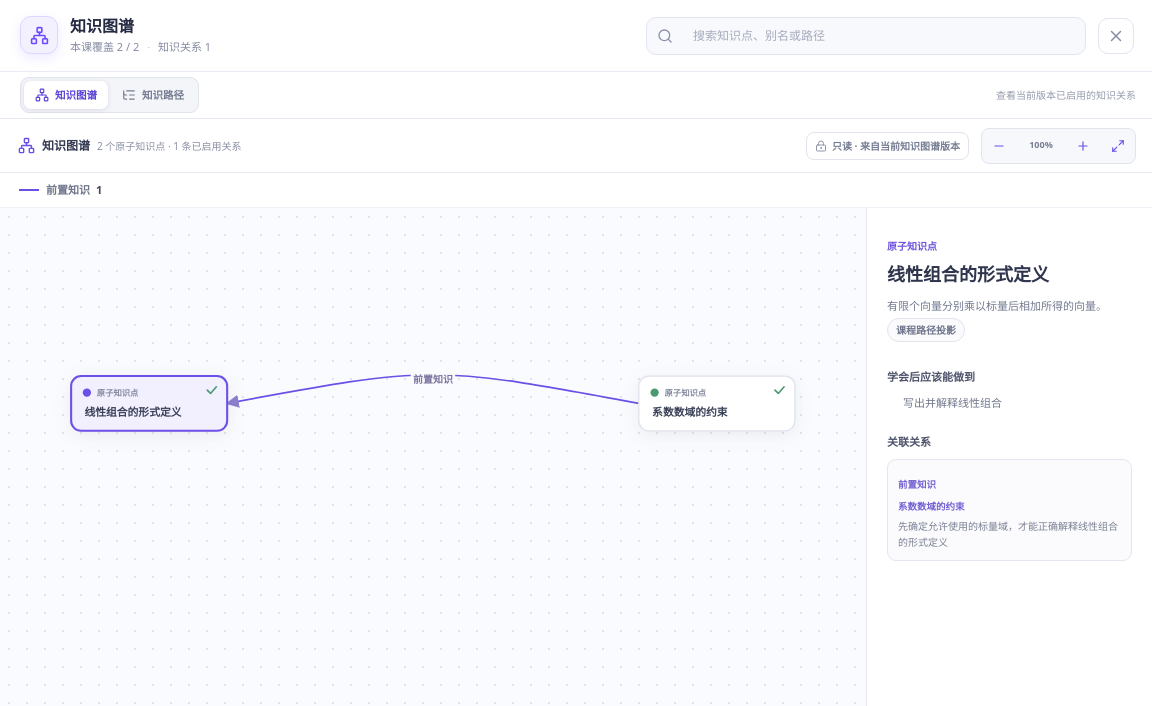
Test: Course knowledge library › 从教案知识标签打开时直接定位对应原子知识
Step 1. Click the tab "知识路径" → (153, 95), box [111,81,195,109]
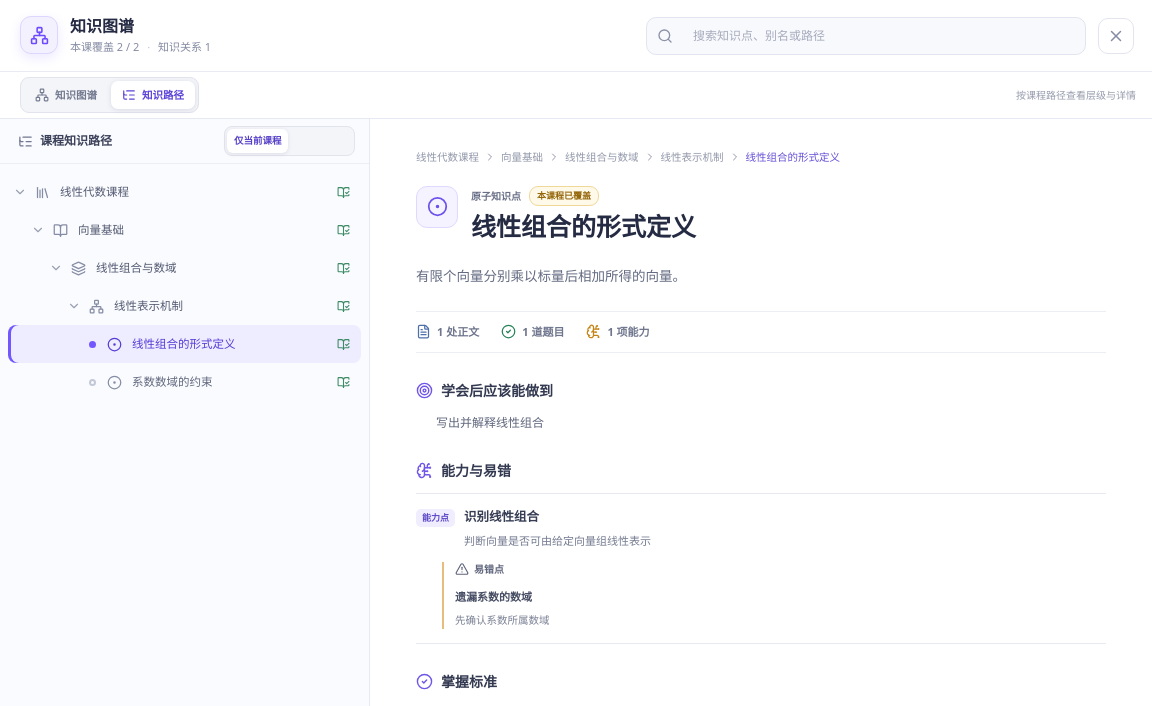
expect the heading "线性组合的形式定义" is shown: met, box [471,210,696,244]
expect the navigation bar with class "knowledge-tree-breadcrumb" shows "线性表示机制": met, box [661,150,724,164]
